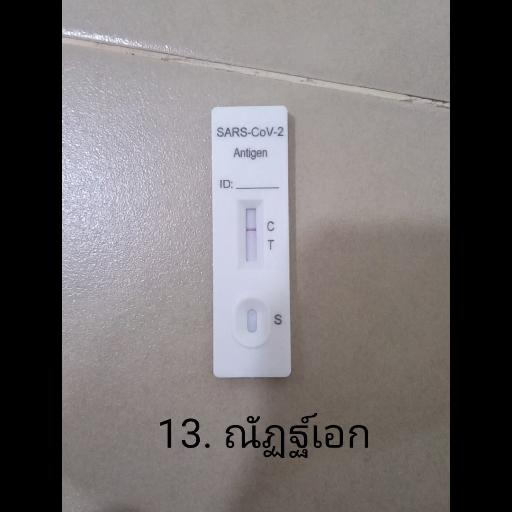Neg: (210, 106, 290, 376)
